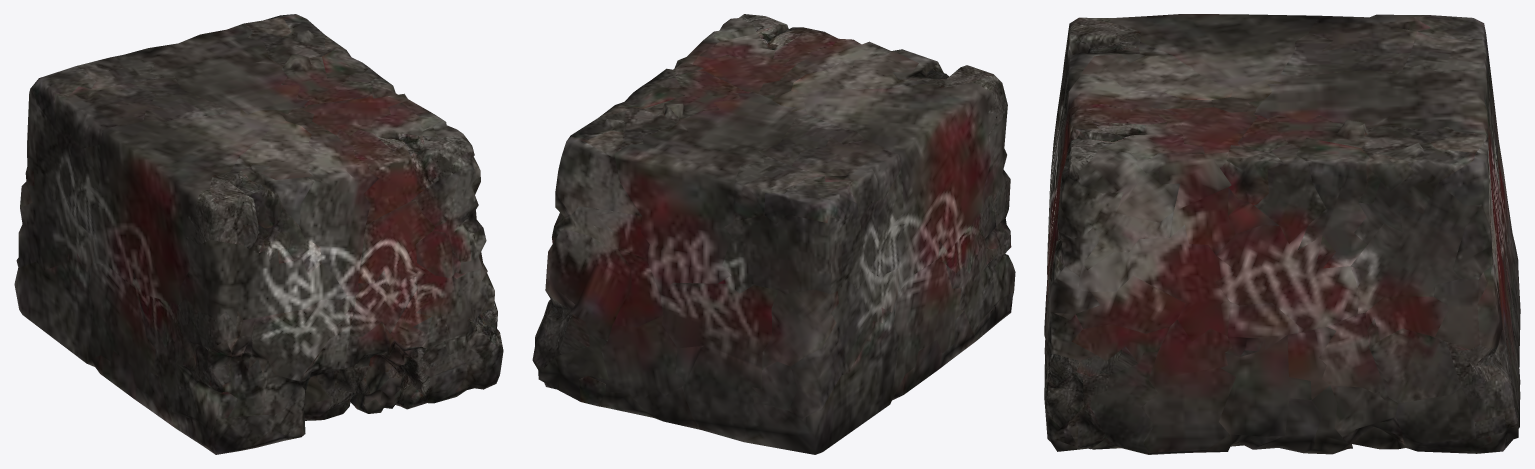
File: blockset_a1.glb
3 views of the same model, side by side, from view 1: azimuth 30°, elevation 25°; view 2: azimuth 150°, elevation 25°; view 3: azimuth 270°, elevation 25° (orthographic). The views are drawn at different scales.
Size of the model in its own units: 71.74 by 59.02 by 87.13.
1 material, 1 textured.
